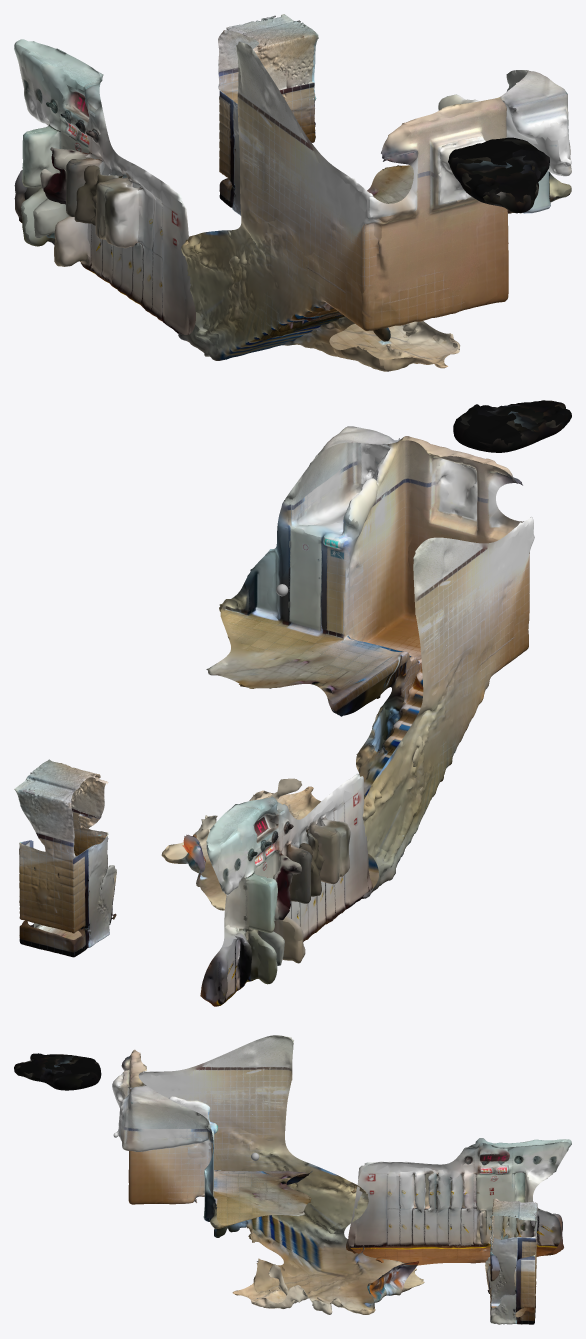
File: WORLD_THREE.obj
3 renders of one model, top to bottom at view 1: azimuth 30°, elevation 25°; view 2: azimuth 150°, elevation 25°; view 3: azimuth 270°, elevation 25°, orthographic. The views are drawn at different scales.
Visible parts, largest first — view 1: unnamed_n3d, unnamed_n3d3, unnamed_n3d2, unnamed_n3d4, unnamed_n3d5; view 2: unnamed_n3d, unnamed_n3d3, unnamed_n3d2, unnamed_n3d4, unnamed_n3d5; view 3: unnamed_n3d, unnamed_n3d3, unnamed_n3d2, unnamed_n3d4, unnamed_n3d5.
Part boxes in pixels (<box>): unnamed_n3d: <box>178,41,571,371</box>; unnamed_n3d3: <box>14,39,195,334</box>; unnamed_n3d2: <box>226,49,571,371</box>; unnamed_n3d4: <box>218,14,318,215</box>; unnamed_n3d5: <box>219,27,318,207</box>; unnamed_n3d: <box>173,400,571,898</box>; unnamed_n3d3: <box>200,773,372,1006</box>; unnamed_n3d2: <box>161,447,533,910</box>; unnamed_n3d4: <box>14,767,116,957</box>; unnamed_n3d5: <box>20,759,116,957</box>; unnamed_n3d: <box>14,1035,420,1314</box>; unnamed_n3d3: <box>346,1138,571,1265</box>; unnamed_n3d2: <box>122,1035,424,1314</box>; unnamed_n3d4: <box>487,1198,537,1324</box>; unnamed_n3d5: <box>485,1200,536,1312</box>.
Size of the model in its own units: 531 by 578 by 1344.
6 materials, 5 textured.
